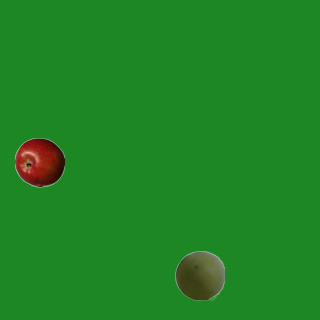Apple Braeburn: (14, 137, 64, 187)
Grape White 4: (174, 250, 224, 300)
